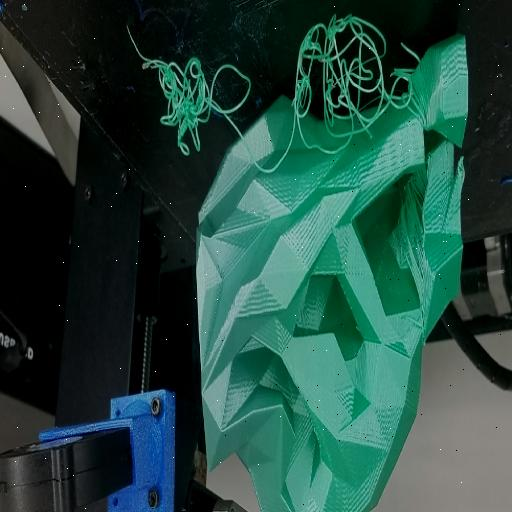spaghetti: (287, 8, 416, 158), (143, 32, 251, 161)
